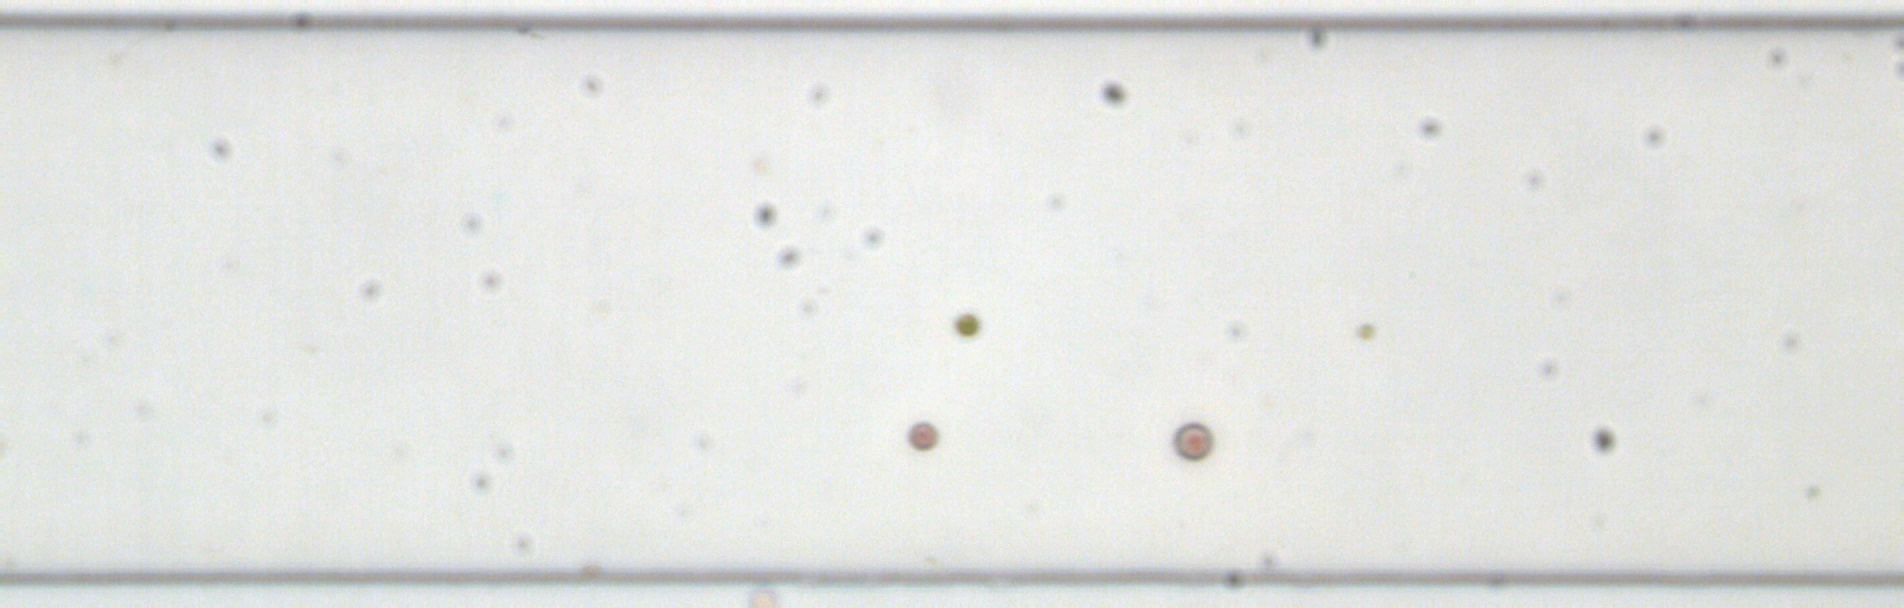Chlorella: (951, 312, 980, 337), (1356, 319, 1375, 339)
Porphyridium: (1171, 417, 1214, 464), (903, 419, 942, 453)
